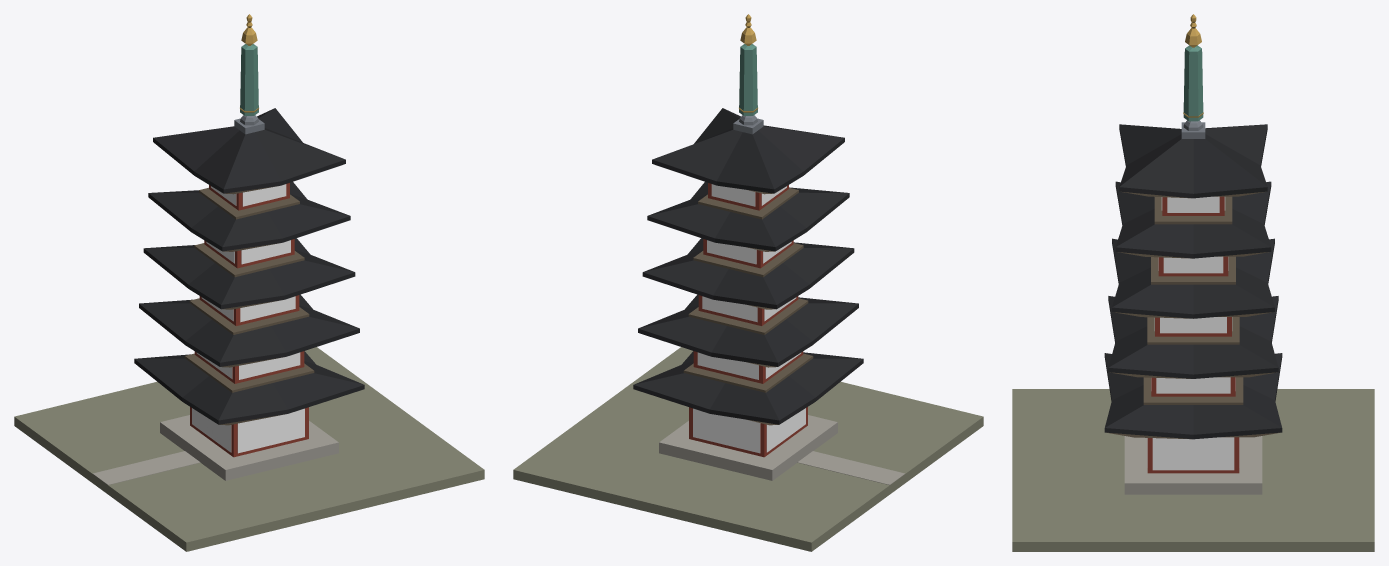
The model's file is far.fbx.
The picture shows the model from 3 angles, left to right: view 1: azimuth 30°, elevation 25°; view 2: azimuth 150°, elevation 25°; view 3: azimuth 270°, elevation 25°; orthographic projection. The views are drawn at different scales.
Visible parts, largest first — view 1: landmark-five_story_pagoda/0/far; view 2: landmark-five_story_pagoda/0/far; view 3: landmark-five_story_pagoda/0/far.
Part boxes in pixels (box(x1,y1,x2,y2)): landmark-five_story_pagoda/0/far: box(14, 14, 484, 551); landmark-five_story_pagoda/0/far: box(513, 14, 983, 551); landmark-five_story_pagoda/0/far: box(1012, 14, 1374, 551).
Bounding box in the file's own units: 40 × 56.2 × 40.
